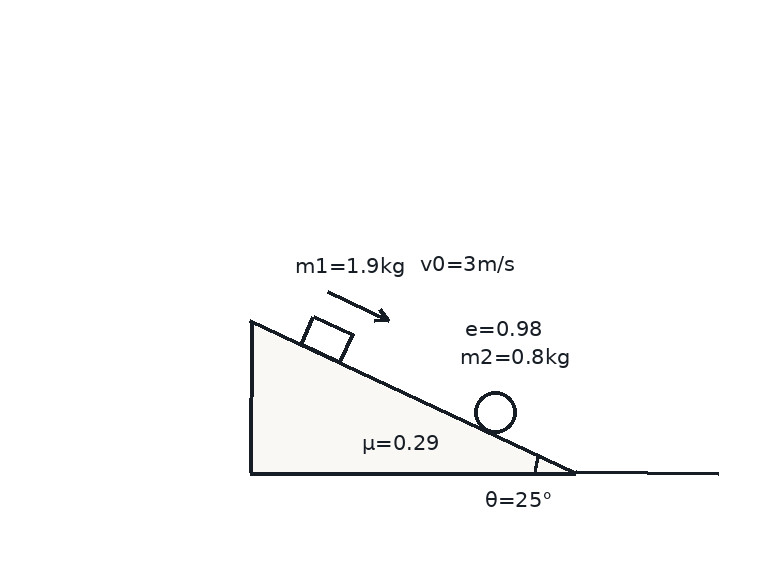ball: (472, 389, 518, 435)
block: (299, 314, 353, 364)
ramp: (249, 319, 577, 474)
